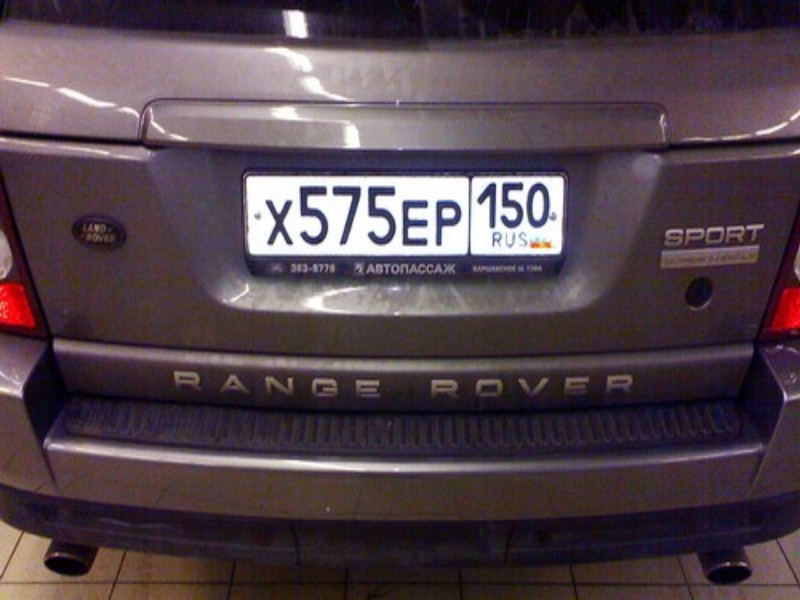car: (1, 1, 800, 582)
plate: (246, 176, 564, 254)
